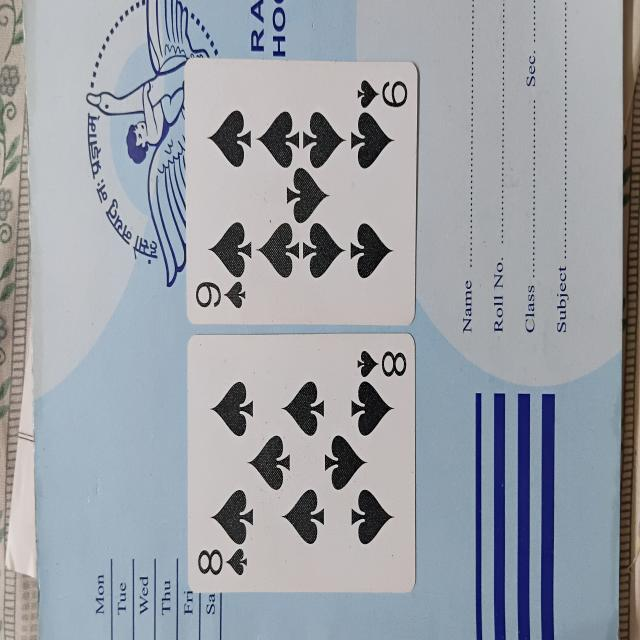8S: (189, 332, 414, 590)
9S: (188, 61, 416, 322)
